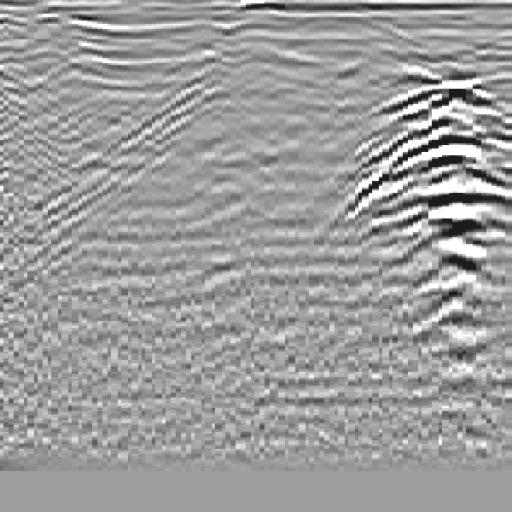metalic: (323, 31, 512, 323)
